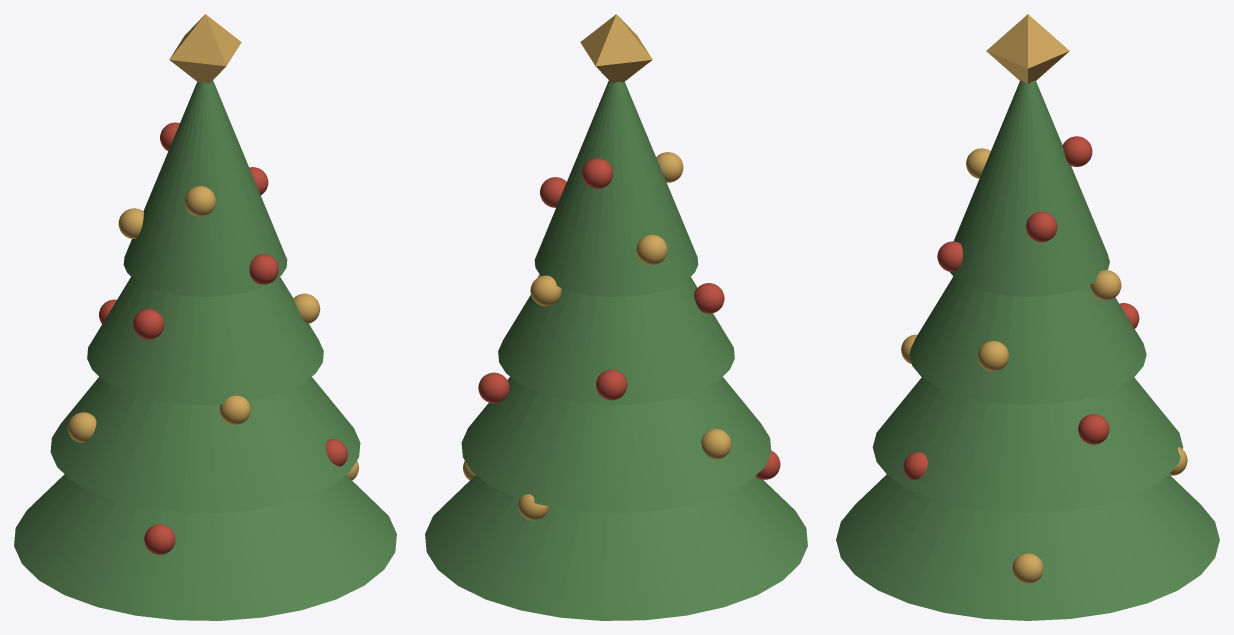
File: wp-sapin-decore.glb
3 views of the same model, side by side, from view 1: azimuth 30°, elevation 25°; view 2: azimuth 150°, elevation 25°; view 3: azimuth 270°, elevation 25° (orthographic).
Visible parts, largest first — view 1: wp-sapin-decore; view 2: wp-sapin-decore; view 3: wp-sapin-decore.
Boxes of the visible parts, left/top/right/bottom form: wp-sapin-decore: left=14, top=14, right=396, bottom=620; wp-sapin-decore: left=425, top=14, right=807, bottom=620; wp-sapin-decore: left=836, top=14, right=1219, bottom=620.
Bounding box in the file's own units: 1.2 × 2 × 1.2.
